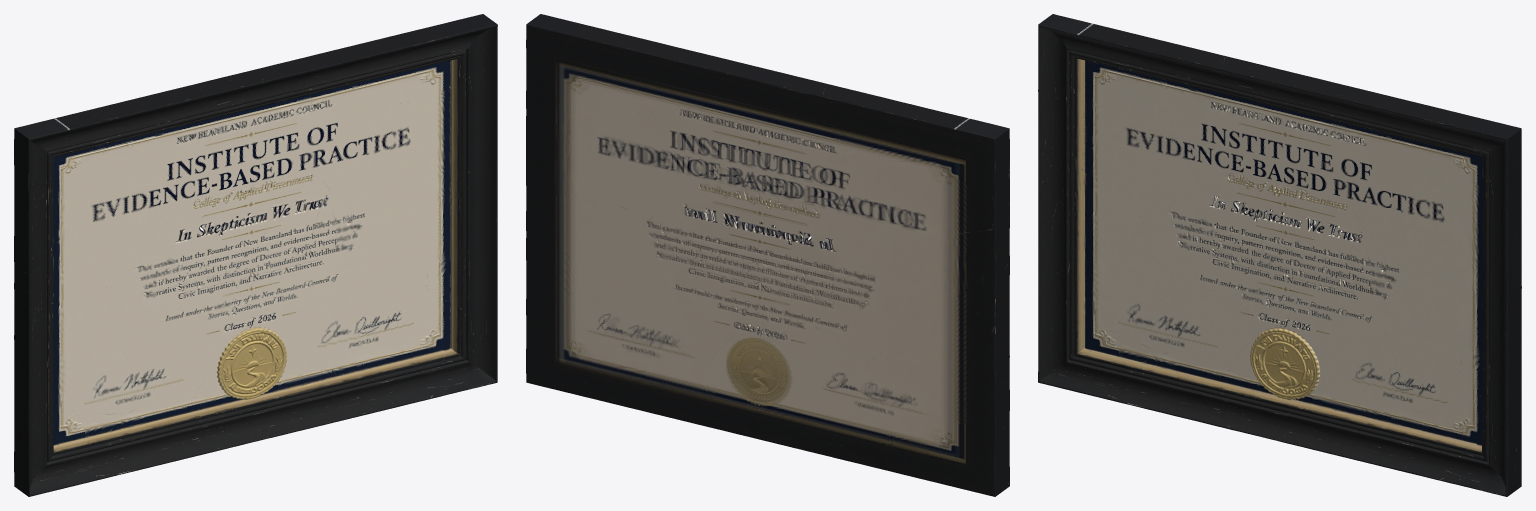
Rendered from Institute_Of_Evidence-Based_Practice_Certificate.glb.
The picture shows the model from 3 angles, left to right: view 1: azimuth 30°, elevation 25°; view 2: azimuth 150°, elevation 25°; view 3: azimuth 330°, elevation 25°; orthographic projection.
Size of the model in its own units: 1.9 by 1.39 by 0.1057.
Materials: 1 (1 with a texture image).
